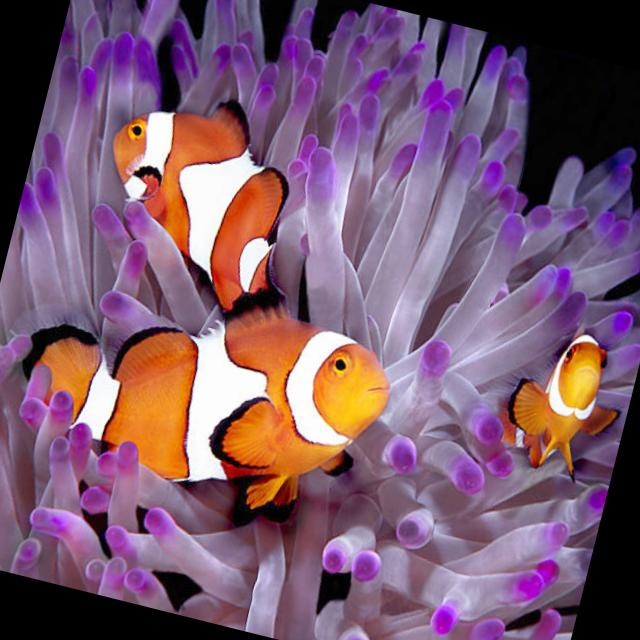ClownFish: (0, 251, 399, 548), (89, 77, 304, 296), (490, 318, 634, 489)
